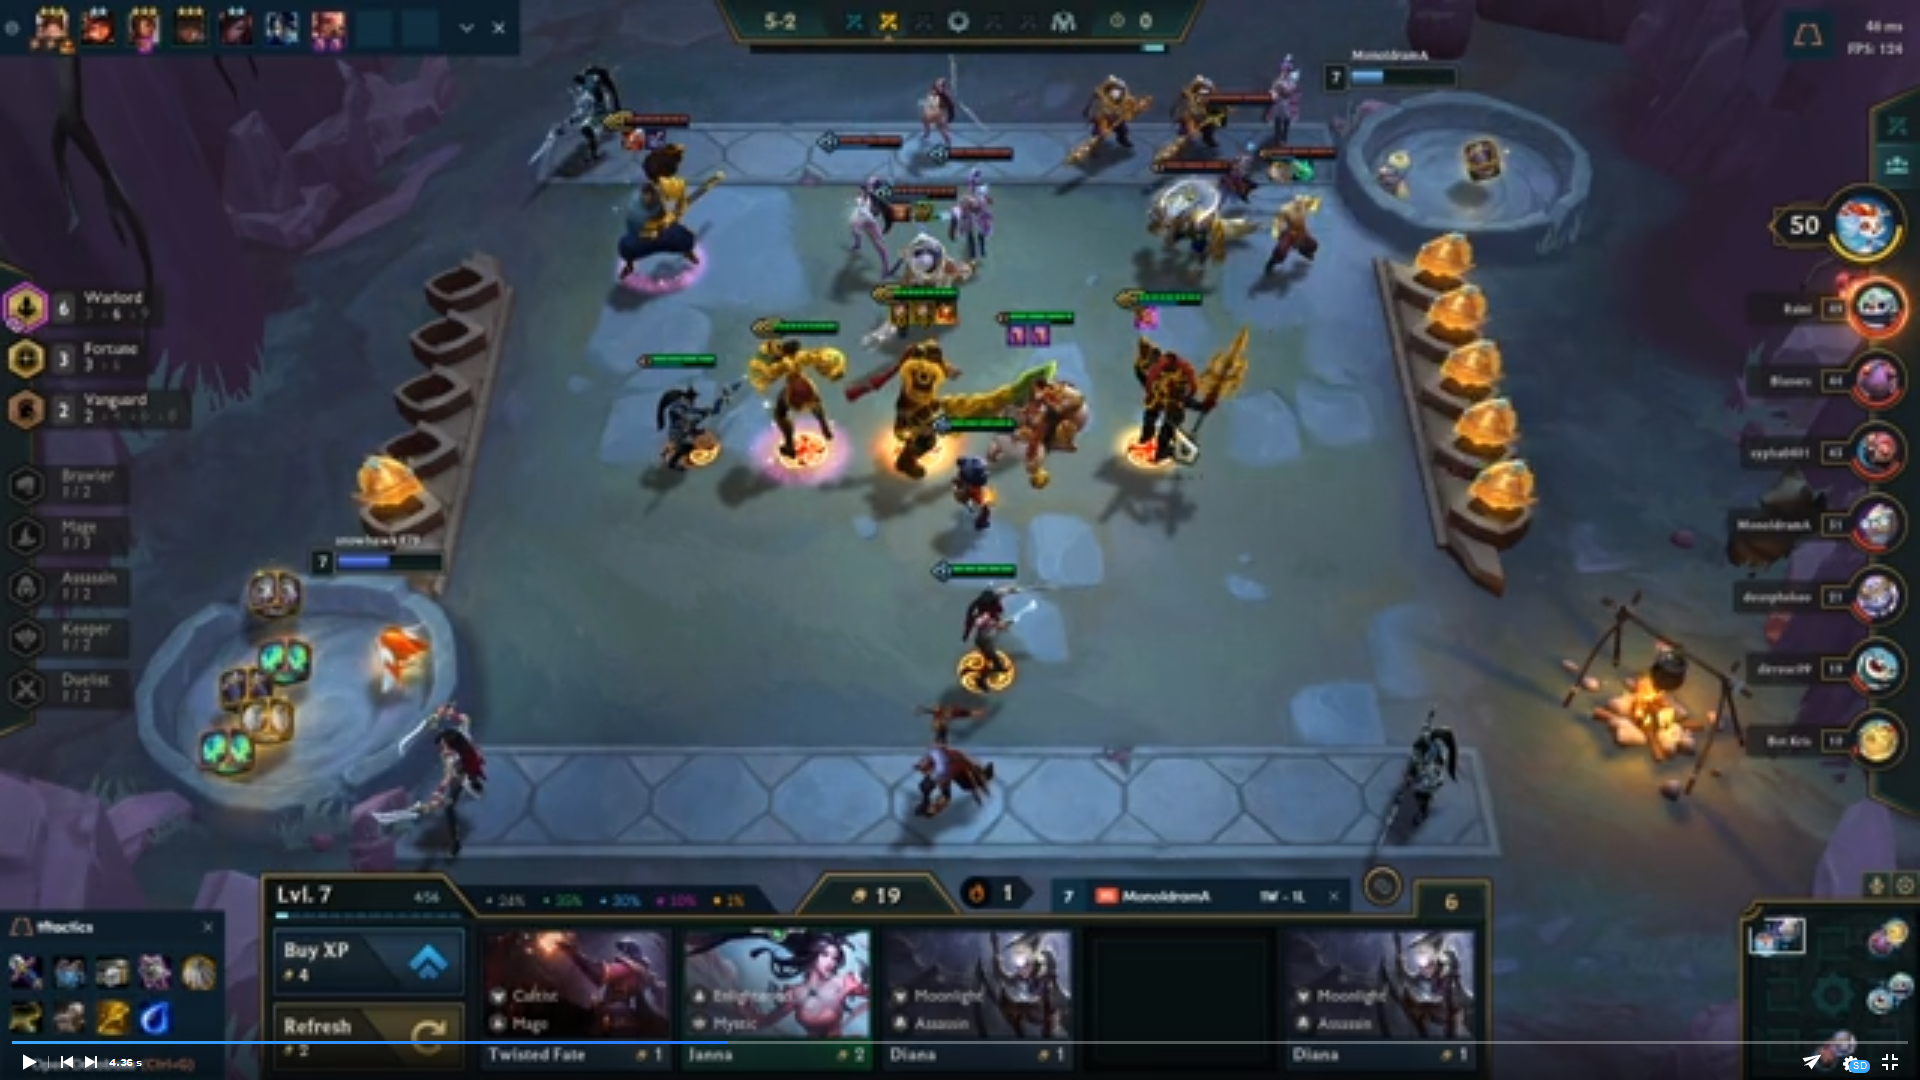1star_kalista: (1184, 80, 1288, 248)
1star_leesin: (1250, 135, 1354, 303)
1star_sejuani: (963, 301, 1102, 502)
1star_warwick: (1124, 146, 1269, 298)
1star_xinzhao: (625, 339, 758, 501)
2star_annie: (916, 407, 1026, 542)
2star_fiora: (891, 127, 1029, 277)
2star_irelia: (804, 115, 914, 299)
2star_jax: (857, 174, 990, 357)
2star_katarina: (918, 549, 1065, 702)
3star_garen: (837, 268, 1065, 512)
3star_jarvaniv: (1096, 277, 1263, 493)
3star_vi: (736, 309, 861, 493)
3star_vi_chosen: (735, 306, 858, 491)
3star_yasuo: (585, 94, 731, 313)
3star_yasuo_chosen: (584, 91, 729, 310)
item_bow: (1200, 102, 1229, 135)
item_bramble: (886, 196, 915, 228)
item_bt: (618, 123, 647, 154)
item_chalice: (1026, 319, 1055, 351), (1002, 319, 1031, 351)
item_jeweledgauntlet: (1133, 301, 1162, 334)
item_lastwhisper: (641, 123, 670, 156)
item_negatron: (1265, 156, 1294, 187)
item_shojin: (1288, 153, 1317, 185)
item_sunfire: (930, 297, 959, 328)
item_titan: (886, 295, 915, 328), (909, 295, 938, 327)
item_warmogs: (909, 195, 938, 227)
trait_assassin1: (1, 556, 199, 608)
trait_brawler2: (1, 458, 199, 508)
trait_duelist1: (1, 661, 199, 712)
trait_fortune3: (1, 335, 199, 386)
trait_keeper1: (1, 611, 199, 662)
trait_mage1: (1, 508, 199, 559)
trait_vanguard2: (1, 384, 199, 435)
trait_warlord6: (1, 284, 199, 334)
trait_warlord_chosen: (1, 276, 51, 336)
